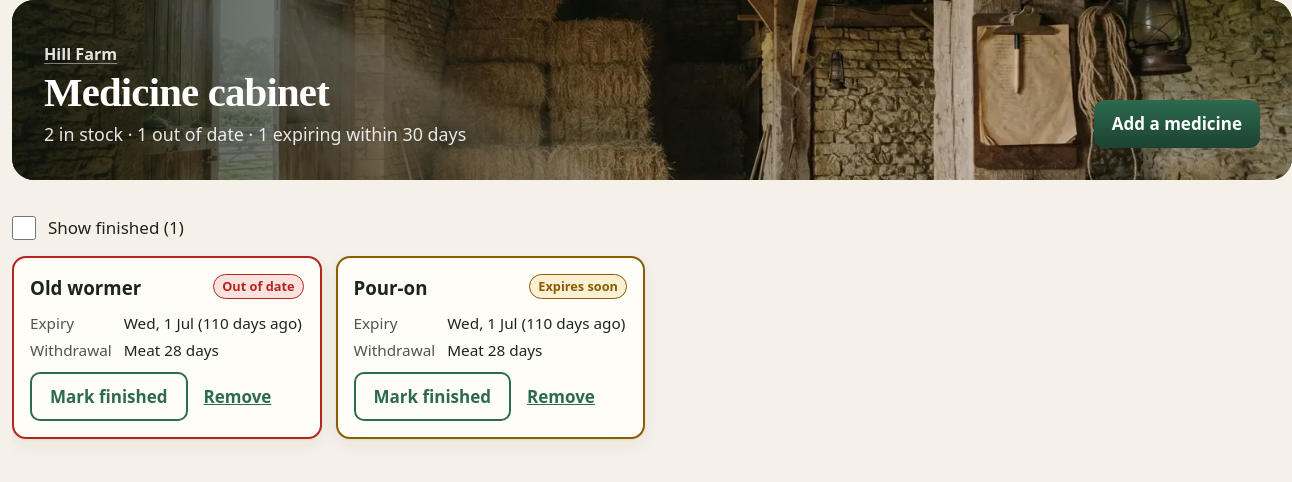
MedicinesPage (v3) › labels out-of-date and expiring stock in words, and hides finished items
Expected: the text "2 in stock · 1 out of date · 1 expiring within 30 days" is shown, [44,121,466,148]
Expected: the text "Out of date" is shown, [222,277,294,295]
Click the checkbox labelled "Show finished (1)": (24, 228) [12,216,36,240]
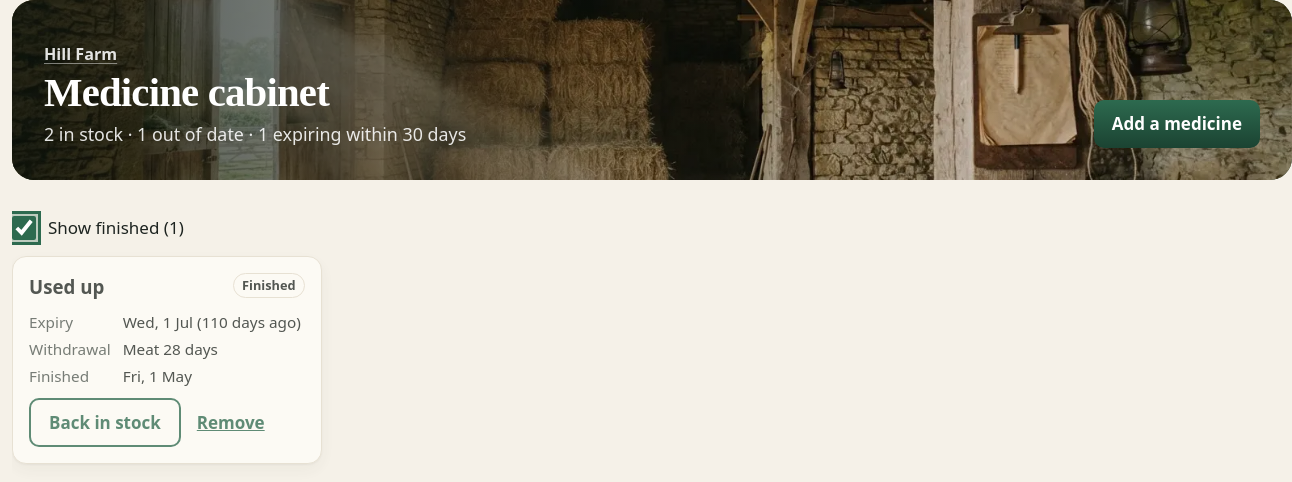
Result: the heading "Used up" is shown at [29,274,104,299]
